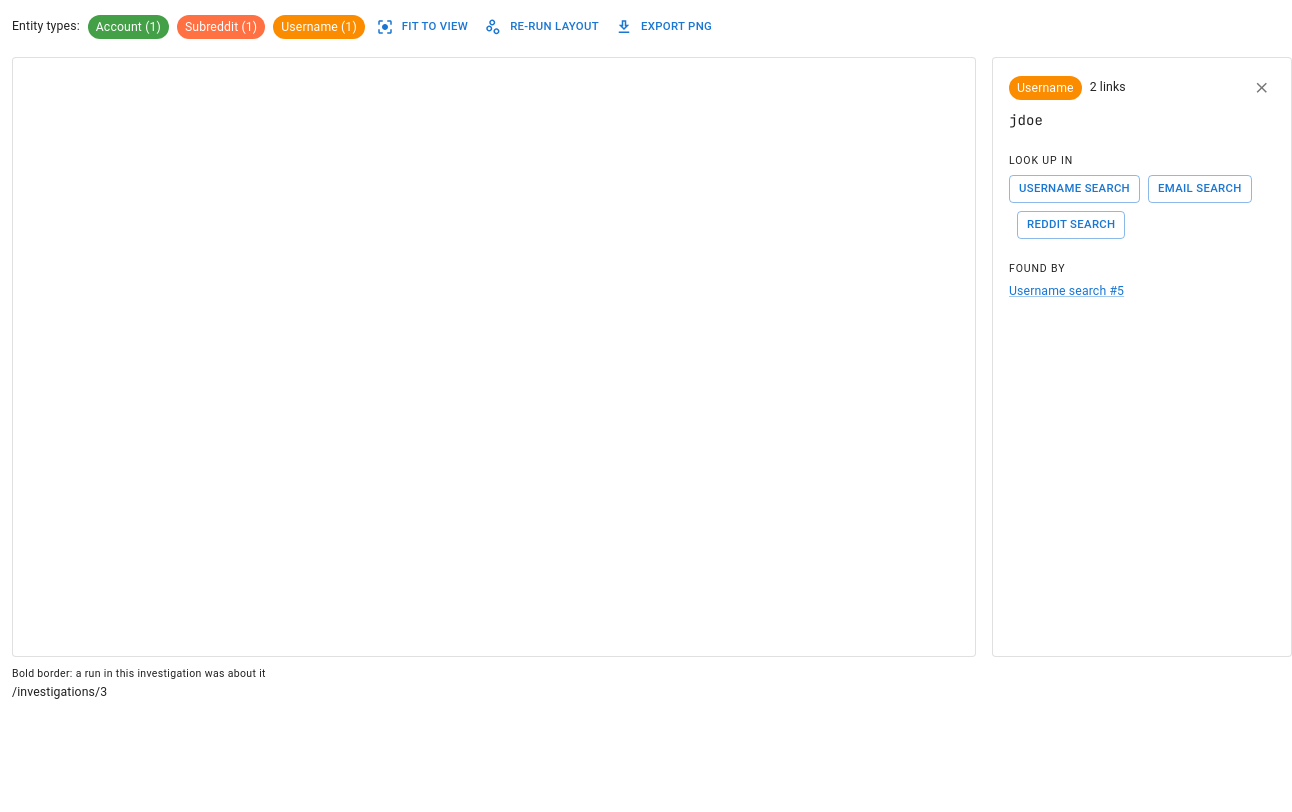
EntityGraph › opens the node panel on tap, with provenance and pivots
The width and height of the screenshot is (1292, 812).
Click the button "Reddit Search".
click(1071, 225)  # box [1017,211,1126,239]
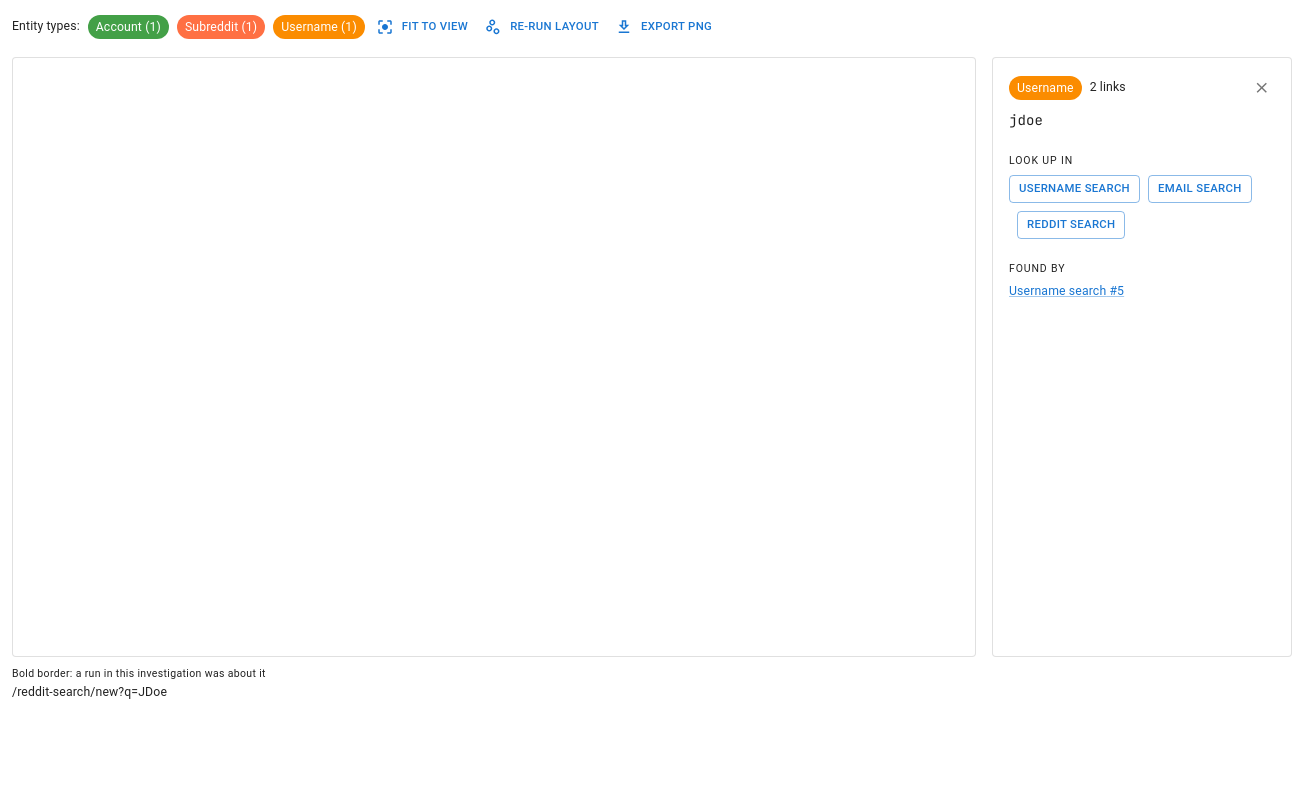
Now the text with test id "location" reads "/reddit-search/new?q=JDoe", box [12,685,167,699]
